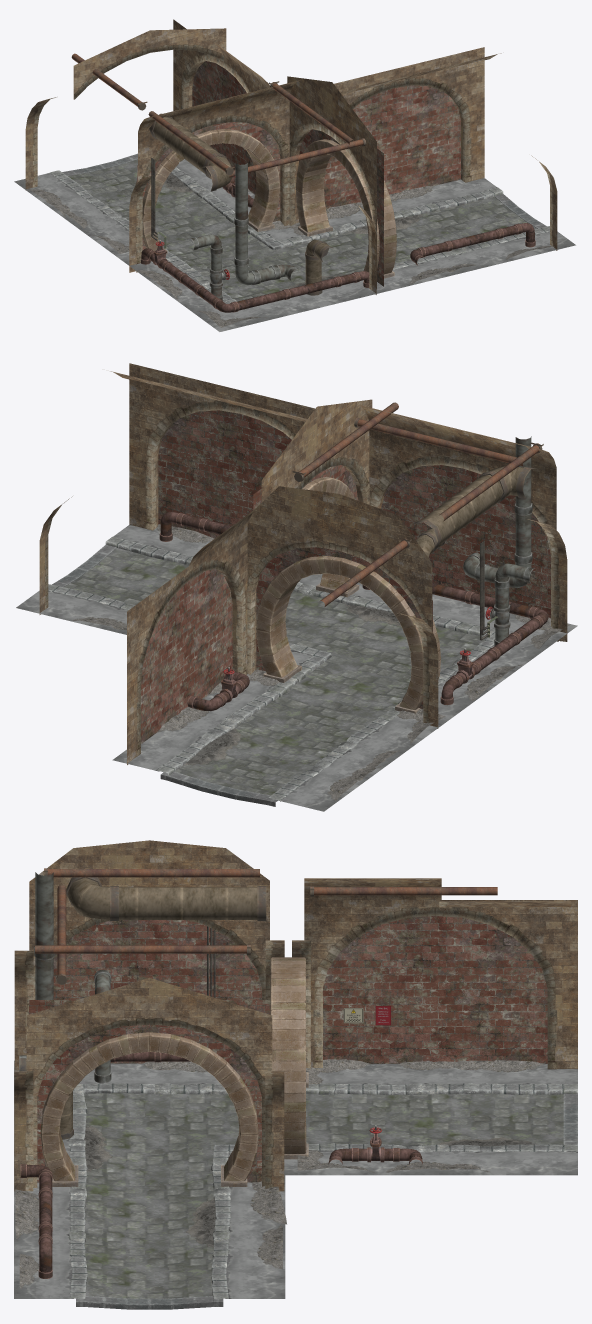
The model's file is t3_road_corner_a.glb.
3 views of the same model, one above another, from view 1: azimuth 30°, elevation 25°; view 2: azimuth 150°, elevation 25°; view 3: azimuth 270°, elevation 25° (orthographic). The views are drawn at different scales.
Parts seen in each view (by area): view 1: um_t3_road_corner_a_model_t3_road_corner_a_modelShape; view 2: um_t3_road_corner_a_model_t3_road_corner_a_modelShape; view 3: um_t3_road_corner_a_model_t3_road_corner_a_modelShape.
Boxes of the visible parts, <box> form: um_t3_road_corner_a_model_t3_road_corner_a_modelShape: <box>14,19,575,331</box>; um_t3_road_corner_a_model_t3_road_corner_a_modelShape: <box>16,363,577,811</box>; um_t3_road_corner_a_model_t3_road_corner_a_modelShape: <box>14,840,577,1309</box>.
Bounding box in the file's own units: 20.14 × 9.68 × 19.75.
Materials: 8 (8 with a texture image).
